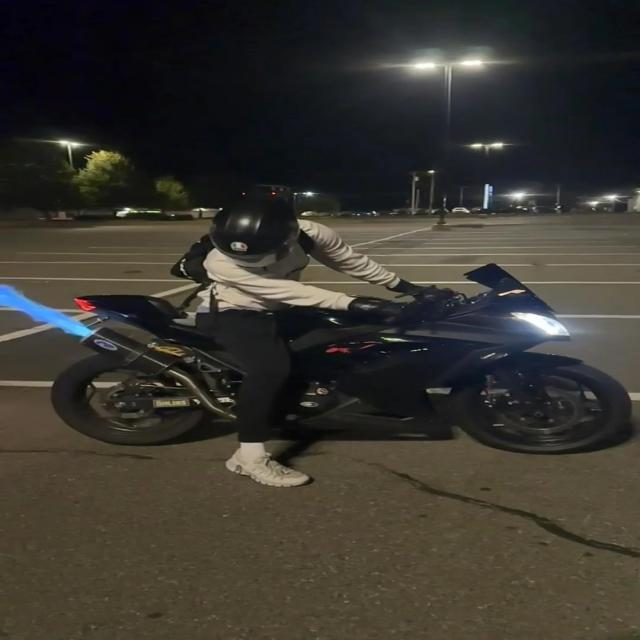fire: (0, 283, 92, 336)
